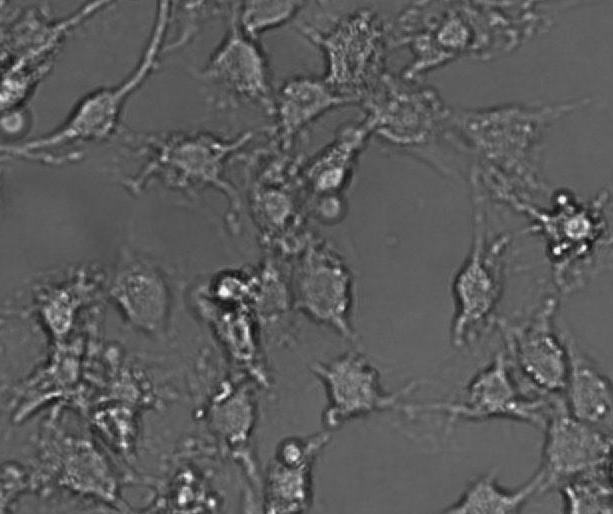Dead: (525, 185, 608, 269), (209, 264, 269, 317)
